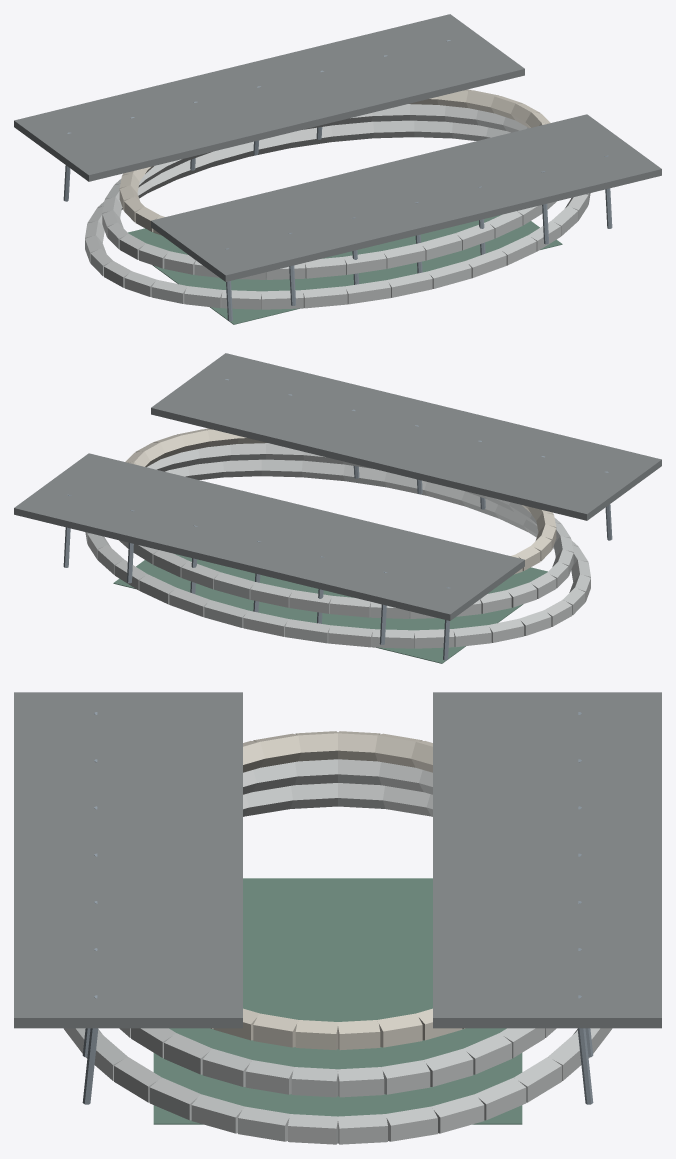
3 views of the same model, one above another, from view 1: azimuth 30°, elevation 25°; view 2: azimuth 150°, elevation 25°; view 3: azimuth 270°, elevation 25° (orthographic). The views are drawn at different scales.
Parts seen in each view (by area): view 1: worldgen; view 2: worldgen; view 3: worldgen.
Part boxes in pixels (x1=…): worldgen: x1=14, y1=14, x2=661, y2=324; worldgen: x1=14, y1=353, x2=661, y2=663; worldgen: x1=14, y1=692, x2=661, y2=1144.
Size of the model in its own units: 148 by 29.06 by 116.
